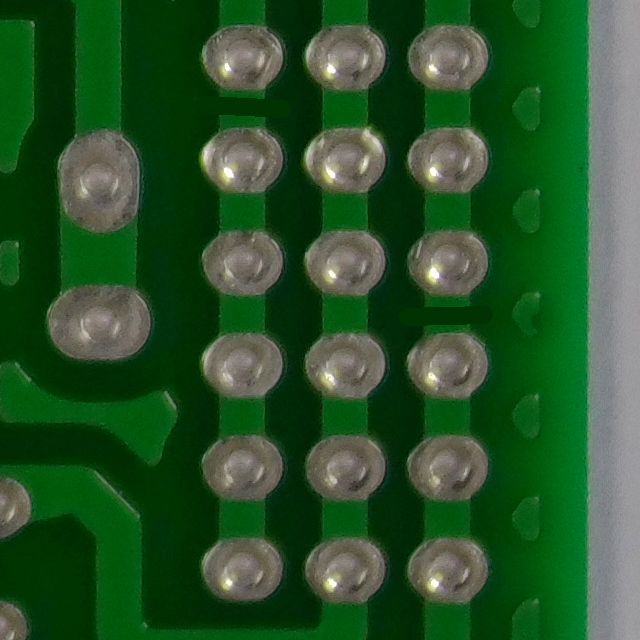open_circuit: (405, 294, 508, 346), (205, 84, 285, 137)
